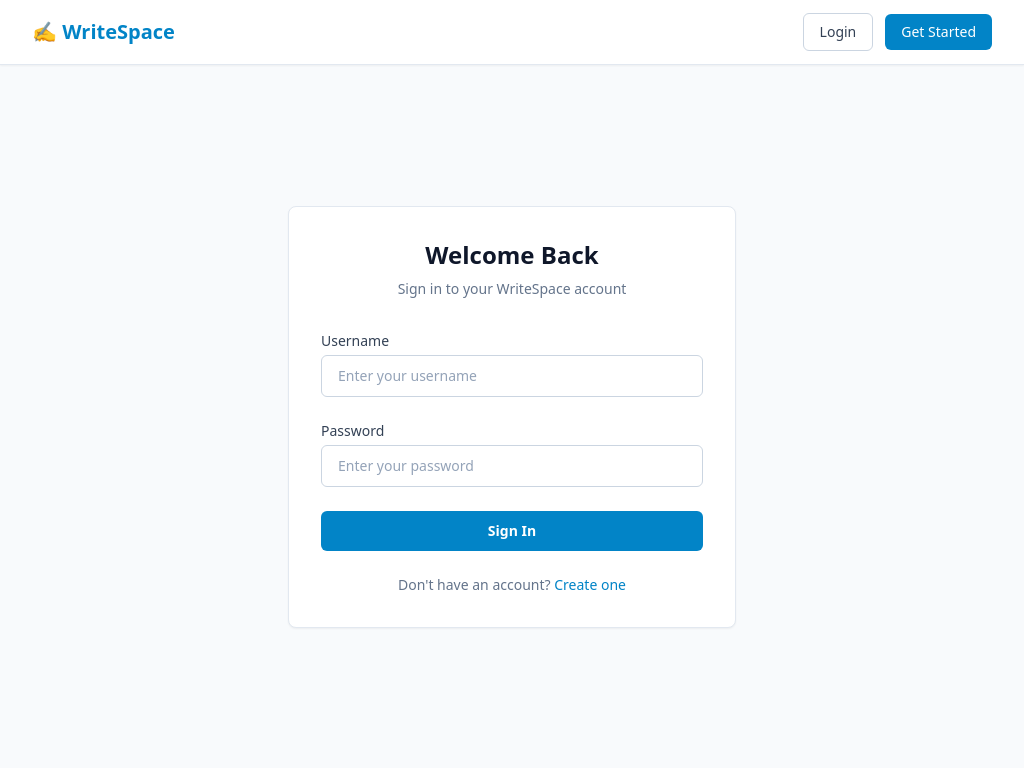
LoginPage › form validation › shows error when password is empty
This screenshot has width=1024, height=768.
Type "someuser" into the field labelled "Username".
click(512, 376); type("someuser")  # box [321, 354, 703, 396]
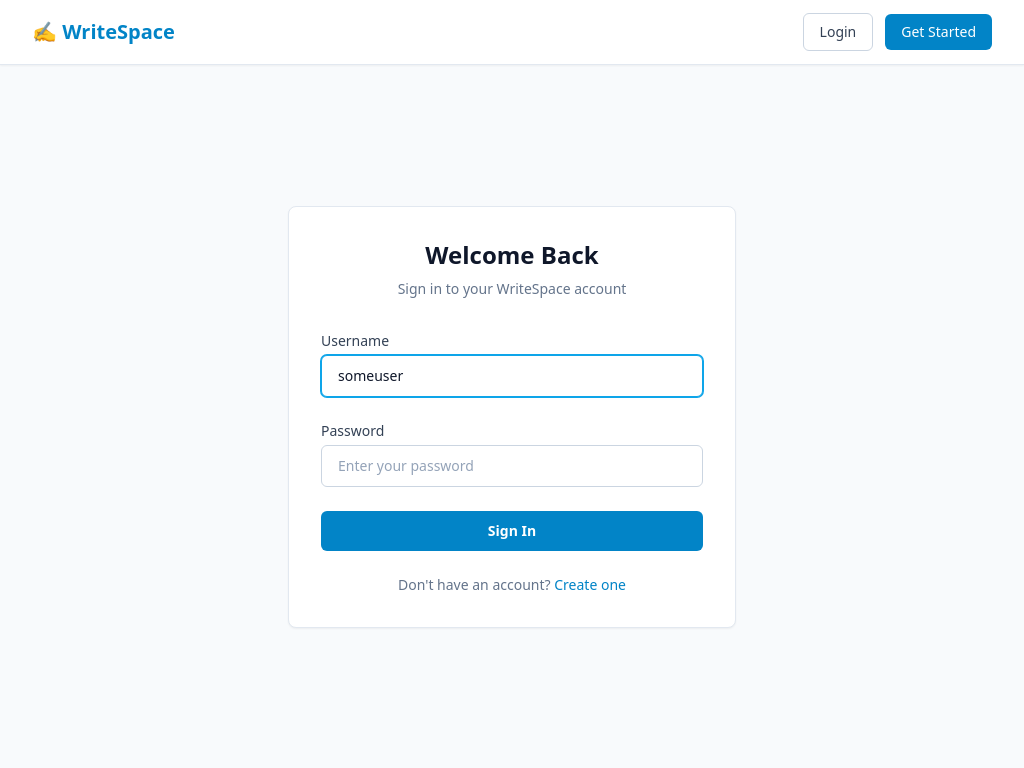
Click the button "Sign In".
click(512, 530)  # box [321, 510, 703, 550]
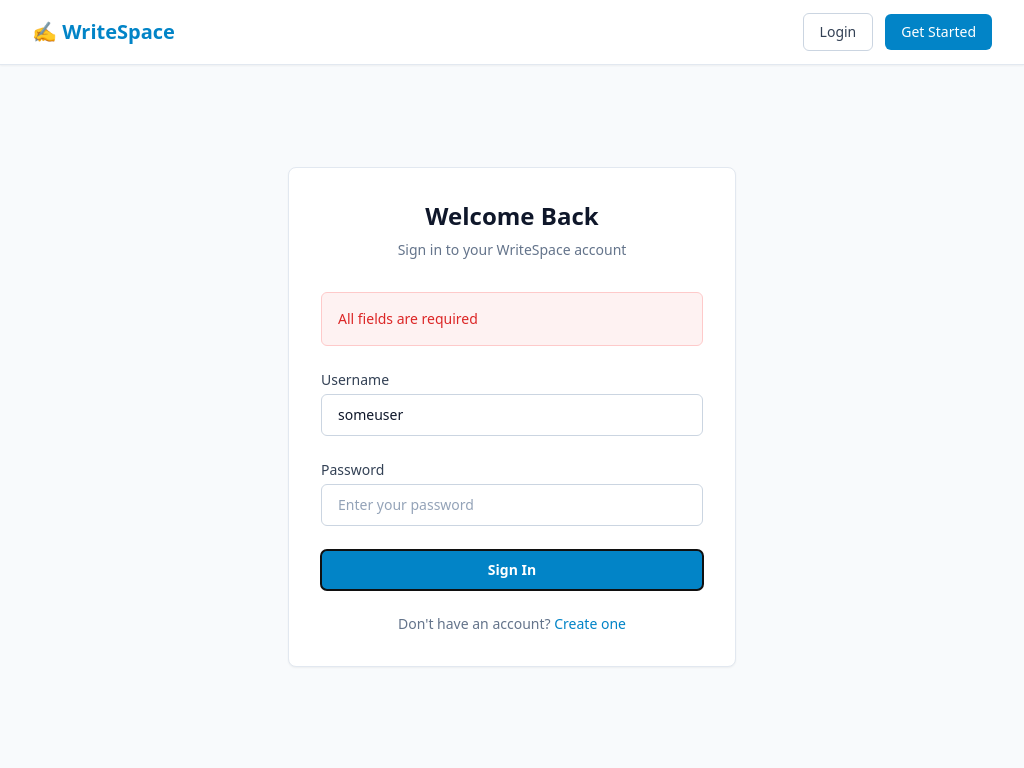
Check: the text "All fields are required" is shown, box [338, 308, 478, 328]
